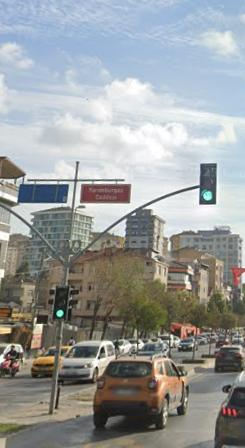greenlight: (199, 164, 217, 204), (53, 288, 68, 320)
